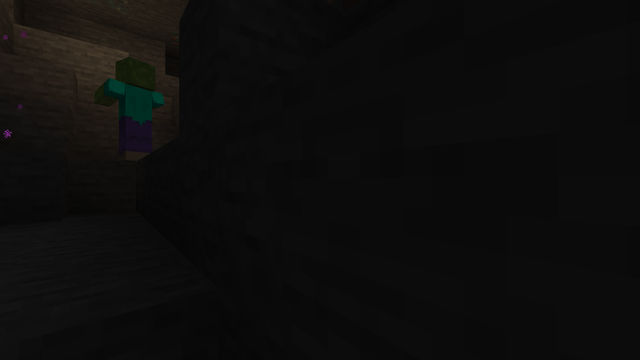zombies: (116, 57, 154, 162)
